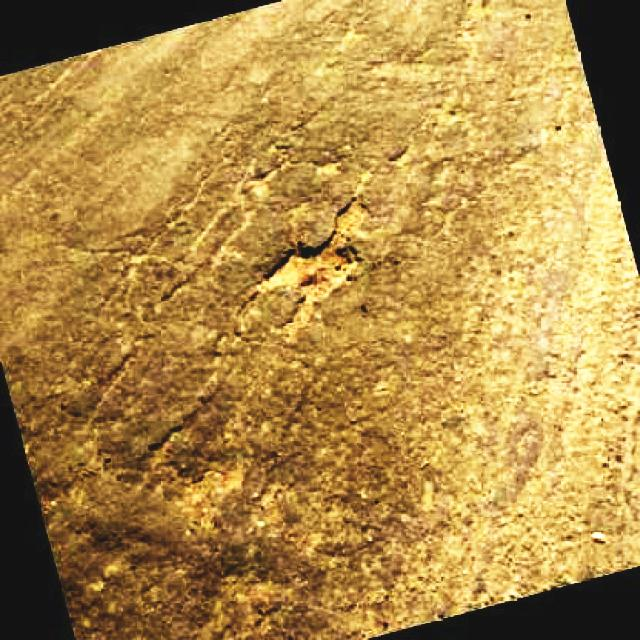pothole: (252, 192, 380, 311), (136, 438, 250, 530)
